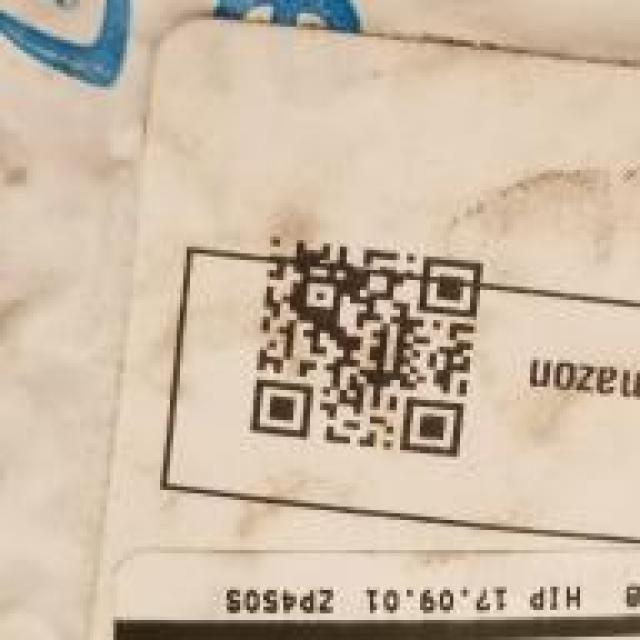qr_code: (250, 234, 483, 458)
